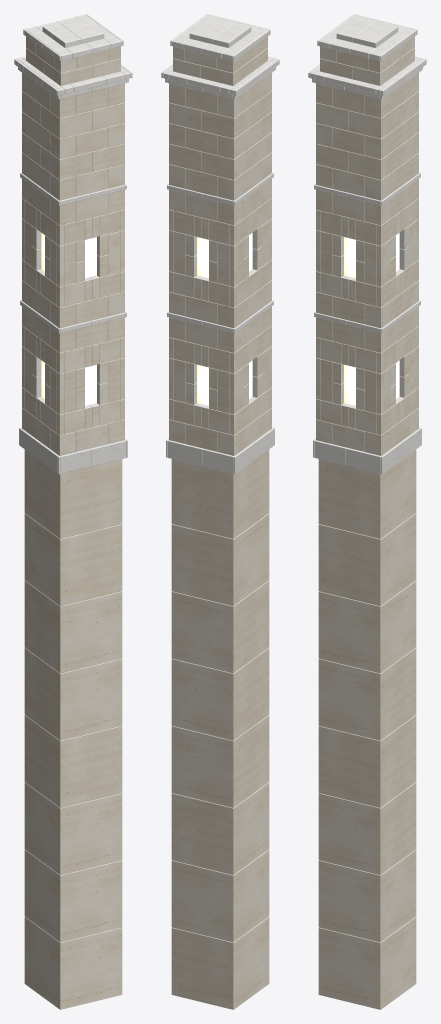
3 views of the same model, side by side, from view 1: azimuth 30°, elevation 25°; view 2: azimuth 150°, elevation 25°; view 3: azimuth 330°, elevation 25° (orthographic).
Parts seen in each view (by area): view 1: Mesh_tower_slot; view 2: Mesh_tower_slot; view 3: Mesh_tower_slot.
Part boxes in pixels (left/top/right/bottom): Mesh_tower_slot: left=14, top=14, right=132, bottom=1009; Mesh_tower_slot: left=161, top=14, right=279, bottom=1009; Mesh_tower_slot: left=308, top=14, right=426, bottom=1009.
Size of the model in its own units: 4.6 by 56 by 4.6.
1 material, 1 textured.
